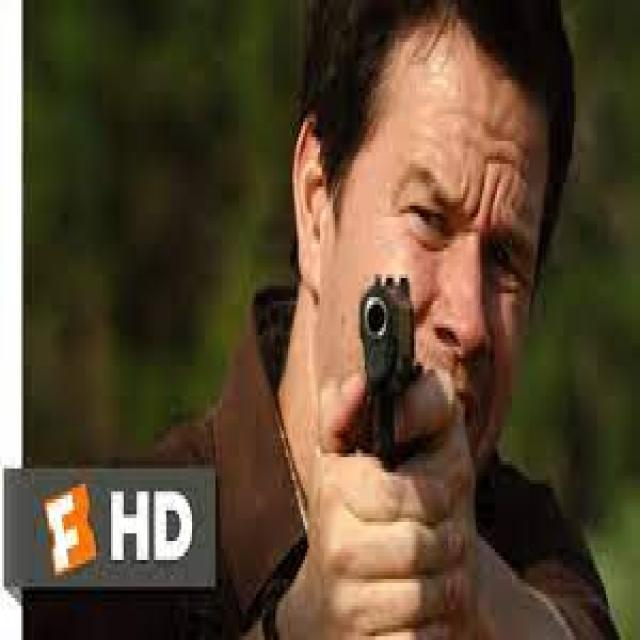weapons: (352, 244, 433, 501)
